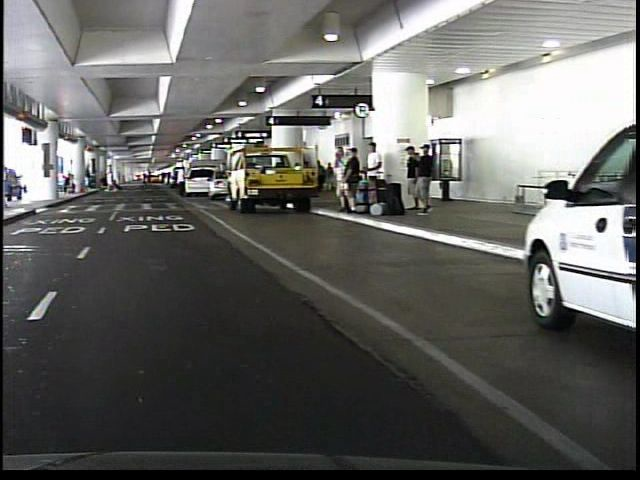person: (412, 144, 431, 217), (327, 143, 346, 211), (97, 162, 112, 196), (172, 165, 182, 197)
